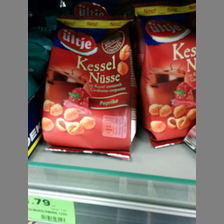nuts: (41, 1, 138, 161), (135, 1, 195, 150)
